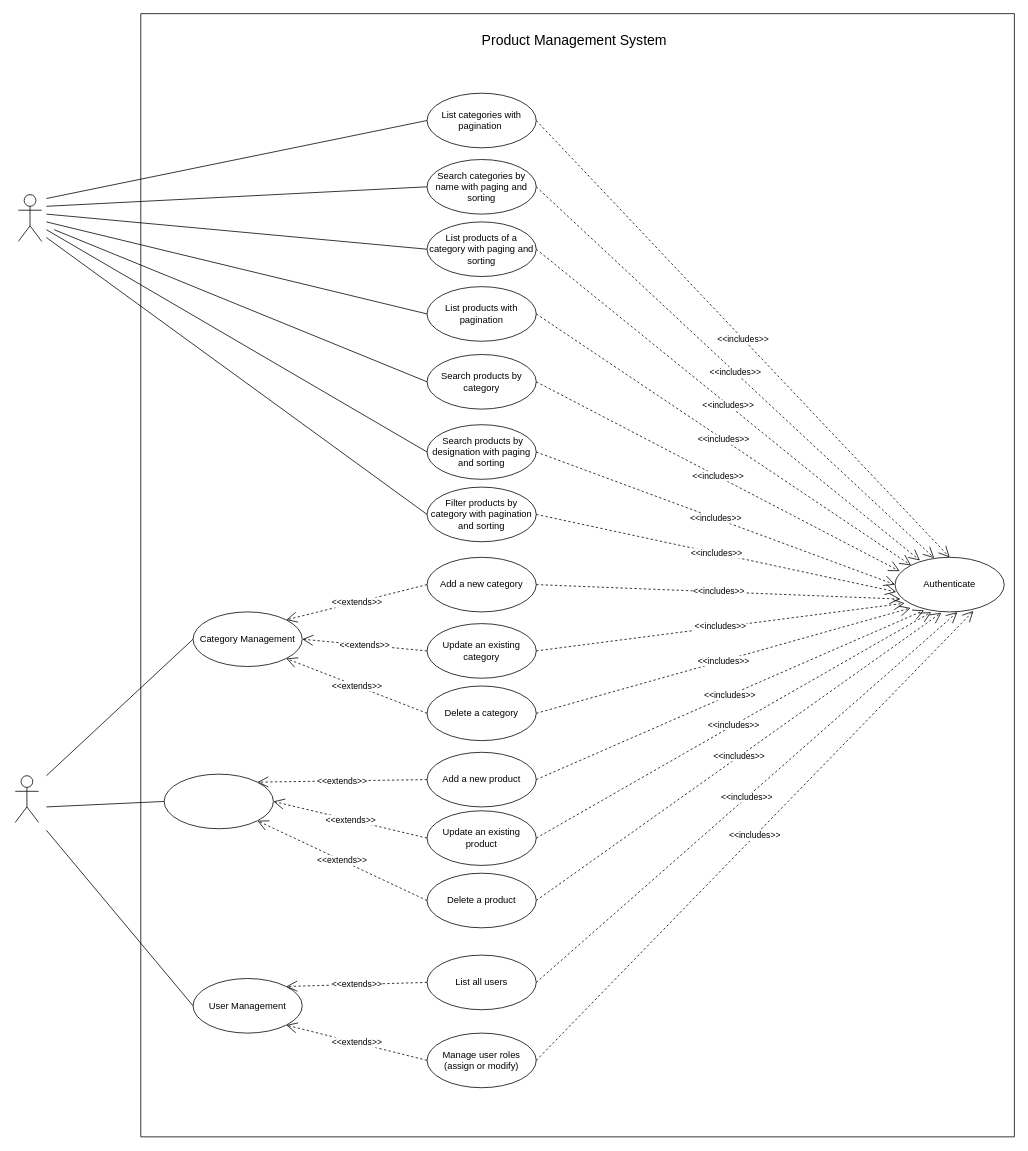
This 1028x1151 diagram has some shape labels left out. Each missing label, with the centre of its shape:
"Admin" goes at point (26, 799).
"Product Management" goes at point (218, 801).
"User" goes at point (30, 217).
